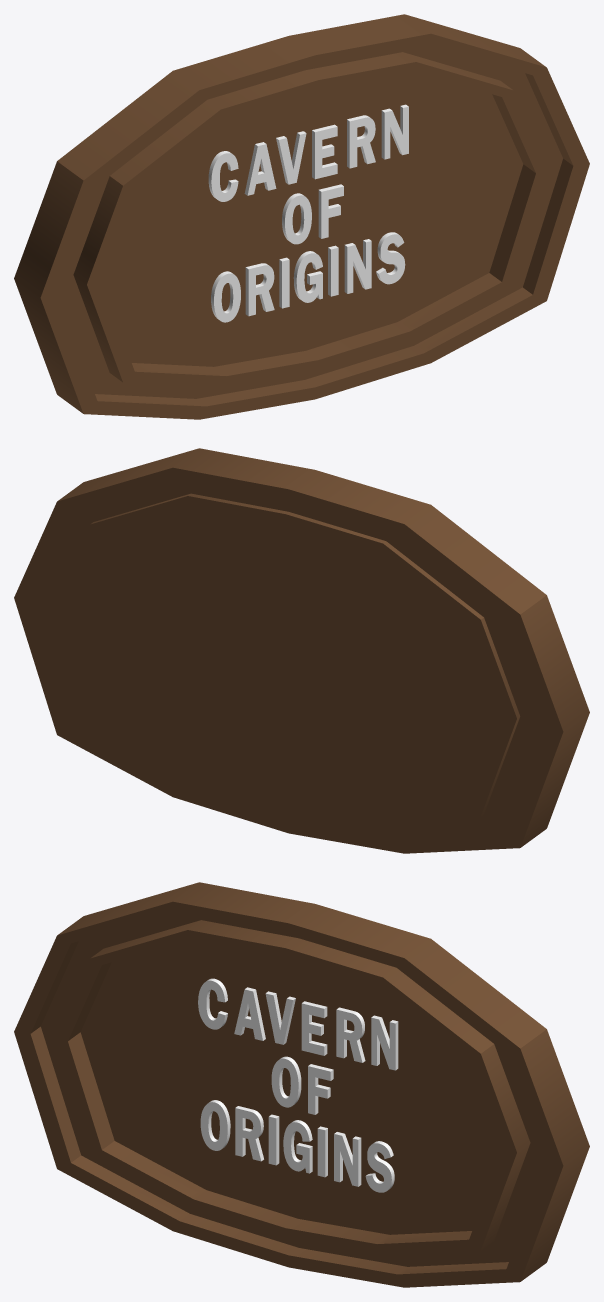
Rendered from pastsign.glb.
3 renders of one model, top to bottom at view 1: azimuth 30°, elevation 25°; view 2: azimuth 150°, elevation 25°; view 3: azimuth 330°, elevation 25°, orthographic.
Visible parts, largest first — view 1: polySurface3, polySurface4, R3, R4, N3, N4, G2, O3, O4, E2, S2, A2 (+5 smaller); view 2: polySurface3, polySurface4; view 3: polySurface3, polySurface4, N3, N4, R4, R3, G2, O4, E2, O3, S2, A2 (+5 smaller).
Boxes of the visible parts, x1,y1,x2,y2 form: polySurface3: (73, 52, 549, 387); polySurface4: (14, 14, 589, 419); R3: (245, 263, 274, 316); R4: (347, 115, 375, 168); N3: (381, 104, 408, 159); N4: (344, 239, 371, 293); G2: (293, 251, 322, 302); O3: (211, 271, 240, 322); O4: (282, 193, 311, 244); E2: (312, 124, 337, 179); S2: (376, 232, 405, 284); A2: (244, 142, 276, 195); polySurface3: (54, 493, 520, 821); polySurface4: (14, 448, 589, 853); polySurface3: (54, 920, 530, 1255); polySurface4: (14, 882, 589, 1287); N3: (371, 1015, 398, 1070); N4: (334, 1132, 361, 1186); R4: (336, 1007, 365, 1062); R3: (235, 1106, 263, 1161); G2: (283, 1120, 312, 1173); O4: (271, 1056, 301, 1107); E2: (301, 1001, 327, 1055); O3: (200, 1100, 230, 1150); S2: (365, 1141, 394, 1192); A2: (234, 987, 265, 1040).
Size of the model in its own units: 0.5812 by 0.3479 by 0.0604.
Materials: 1 (1 with a texture image).
